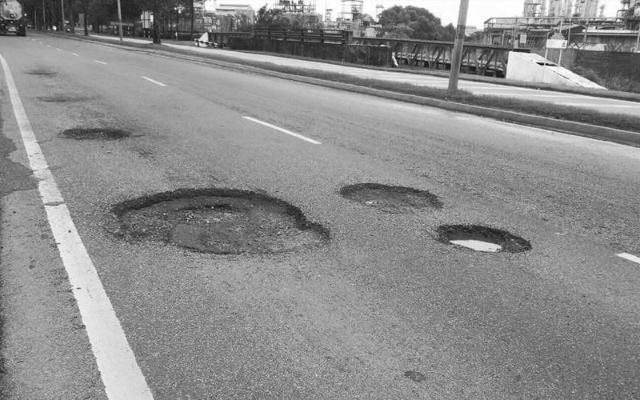Pothole: (104, 182, 330, 260), (338, 180, 447, 215), (432, 219, 534, 256), (58, 126, 136, 144)
